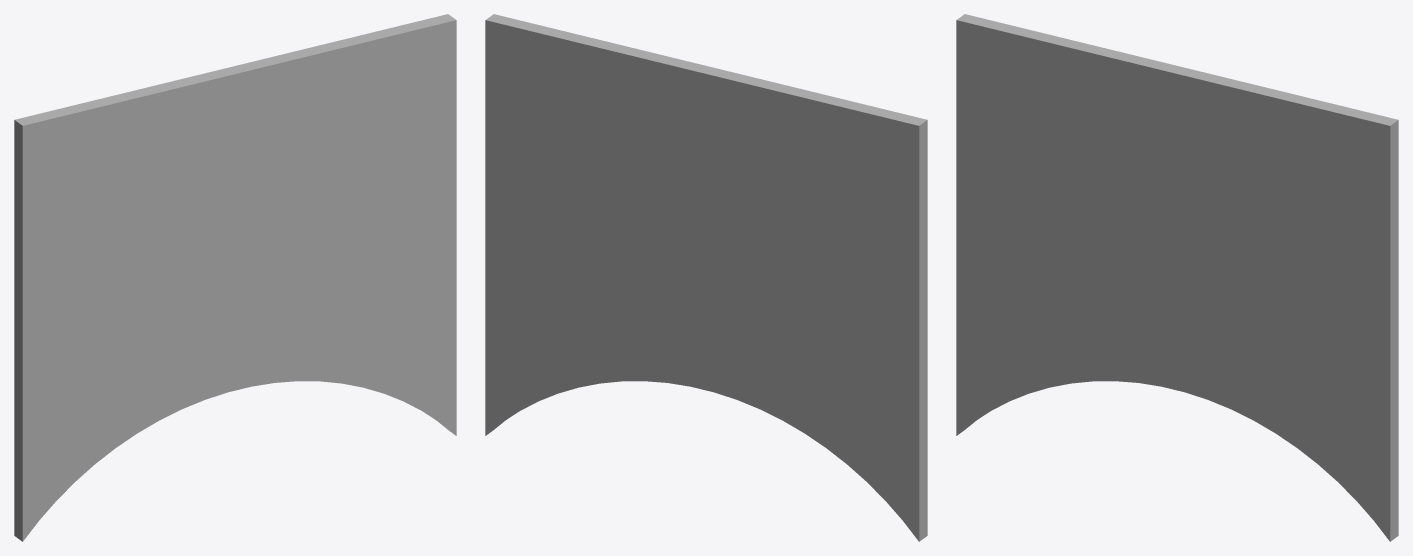
File: cover60.glb
3 views of the same model, side by side, from view 1: azimuth 30°, elevation 25°; view 2: azimuth 150°, elevation 25°; view 3: azimuth 330°, elevation 25° (orthographic).
Visible parts, largest first — view 1: Line001; view 2: Line001; view 3: Line001.
Boxes of the visible parts, x1,y1,x2,y2 form: Line001: (14, 14, 456, 541); Line001: (485, 14, 927, 541); Line001: (956, 14, 1398, 541).
Bounding box in the file's own units: 0.6 × 0.55 × 0.02.
Materials: 1 (1 with a texture image).
